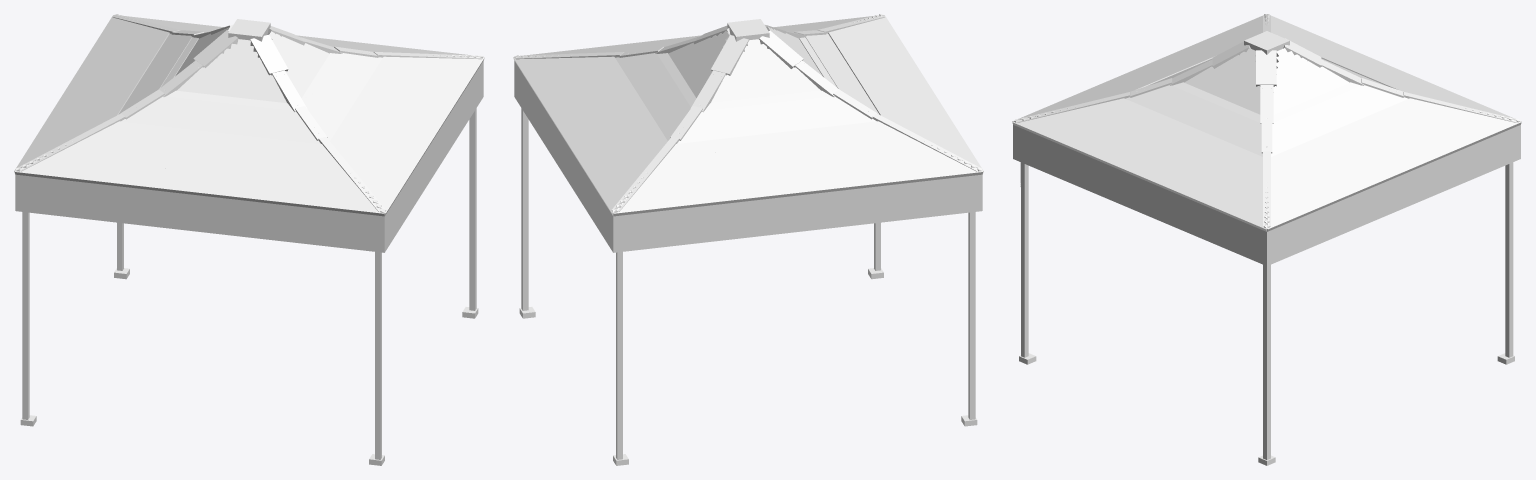
File: tent_blue_baituan_y45.obj
The picture shows the model from 3 angles, left to right: view 1: azimuth 30°, elevation 25°; view 2: azimuth 150°, elevation 25°; view 3: azimuth 270°, elevation 25°; orthographic projection. The views are drawn at different scales.
Parts seen in each view (by area): view 1: text2, text3, cube1.005, cube2.005, stem1, cube3.005, cube4.005, stem4, cube5.001, cube6.001, stem3, cube7.001 (+61 smaller); view 2: text1, text0, cube1.003, cube2.003, stem1, cube3.003, cube4.003, stem4, cube5, cube6, stem2, cube7 (+61 smaller); view 3: text0, text3, cube1.006, cube1.004, stem2, stem3, stem4, cube2.004, cube2.006, cube3.004, cube3.006, cube4.004 (+44 smaller).
Part boxes in pixels (box(x1,y1,x2,y2)): text2: box(15, 174, 386, 252); text3: box(386, 63, 482, 249); cube1.005: box(15, 168, 385, 216); cube2.005: box(22, 164, 381, 208); stem1: box(22, 212, 29, 419); cube3.005: box(29, 161, 377, 204); cube4.005: box(36, 158, 373, 199); stem4: box(469, 108, 476, 310); cube5.001: box(43, 154, 368, 194); cube6.001: box(50, 151, 364, 189); stem3: box(375, 252, 381, 459); cube7.001: box(58, 147, 360, 185); text1: box(619, 175, 976, 252); text0: box(514, 62, 618, 252); cube1.003: box(612, 168, 982, 216); cube2.003: box(616, 164, 975, 208); stem1: box(968, 212, 975, 419); cube3.003: box(620, 161, 968, 204); cube4.003: box(624, 158, 961, 199); stem4: box(521, 108, 528, 310); cube5: box(629, 154, 954, 194); cube6: box(633, 151, 947, 189); stem2: box(616, 252, 622, 459); cube7: box(637, 147, 939, 185); text0: box(1263, 125, 1520, 265); text3: box(1017, 126, 1262, 264); cube1.006: box(1264, 119, 1521, 233); cube1.004: box(1012, 119, 1269, 231); stem2: box(1505, 162, 1513, 357); stem3: box(1020, 162, 1028, 357); stem4: box(1263, 264, 1270, 459); cube2.004: box(1020, 117, 1269, 224); cube2.006: box(1264, 117, 1513, 224); cube3.004: box(1027, 116, 1269, 219); cube3.006: box(1264, 116, 1506, 219); cube4.004: box(1035, 114, 1268, 214).
Bounding box in the file's own units: 5.27 × 3.66 × 5.27.
